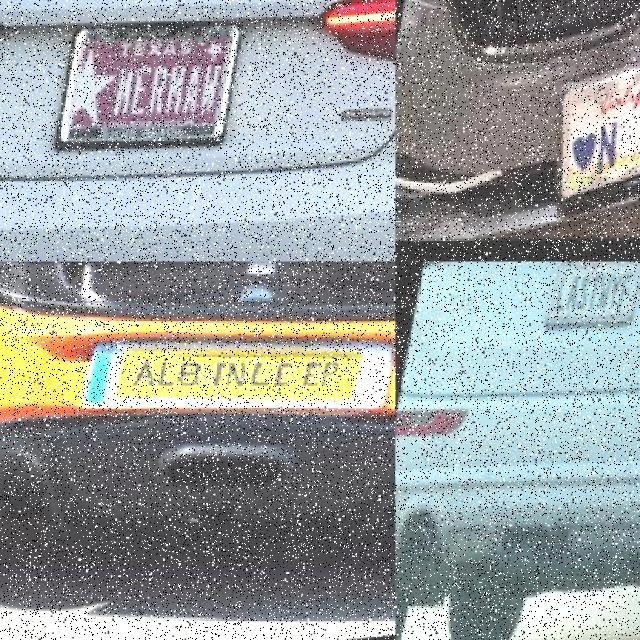LicensePlate: (60, 31, 249, 155), (88, 344, 394, 418), (571, 75, 639, 208), (551, 262, 640, 336)
